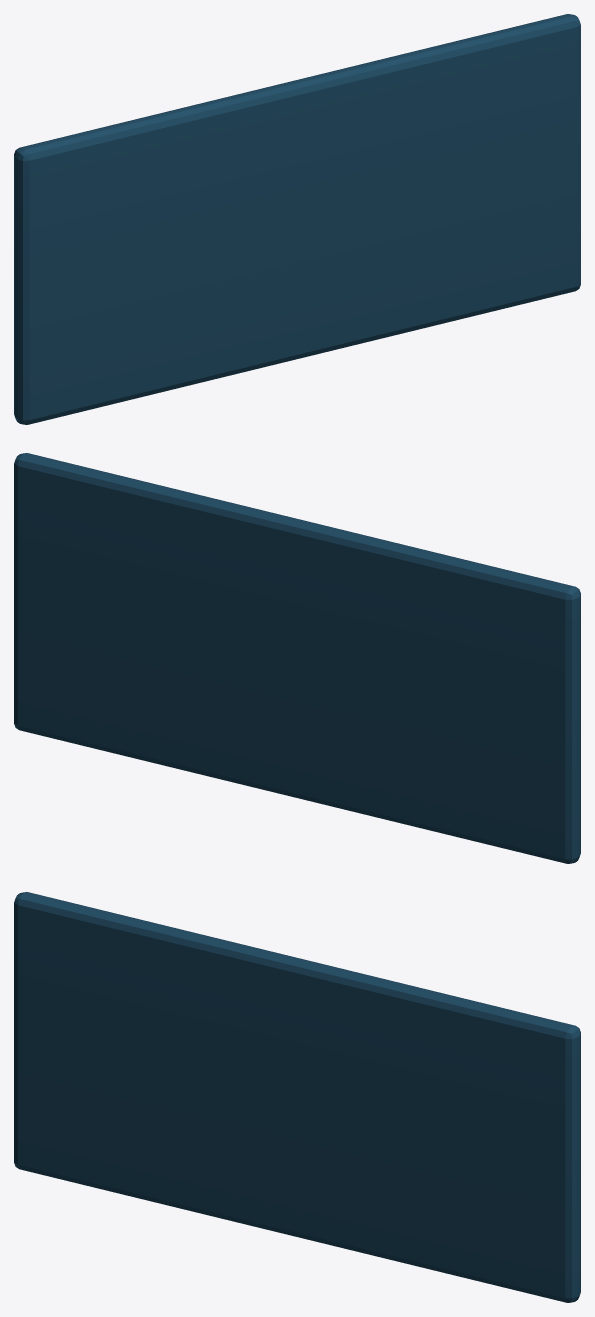
File: SM_ModularShelf_BackPanel.fbx
3 renders of one model, top to bottom at view 1: azimuth 30°, elevation 25°; view 2: azimuth 150°, elevation 25°; view 3: azimuth 330°, elevation 25°, orthographic.
Parts seen in each view (by area): view 1: SM_ModularShelf_BackPanel; view 2: SM_ModularShelf_BackPanel; view 3: SM_ModularShelf_BackPanel.
Part boxes in pixels (box(x1,y1,x2,y2)): SM_ModularShelf_BackPanel: box(14, 14, 580, 424); SM_ModularShelf_BackPanel: box(14, 453, 580, 863); SM_ModularShelf_BackPanel: box(14, 892, 580, 1302).
Bounding box in the file's own units: 3.38 × 1.58 × 0.12.
